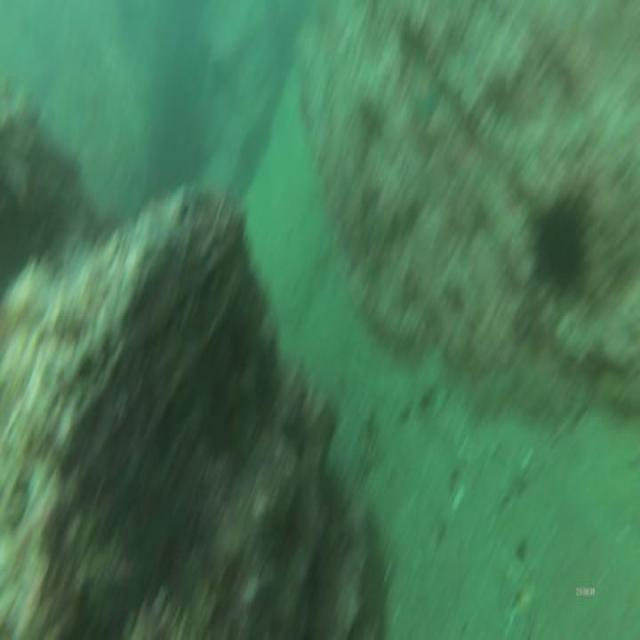echinus: (525, 179, 602, 316)
